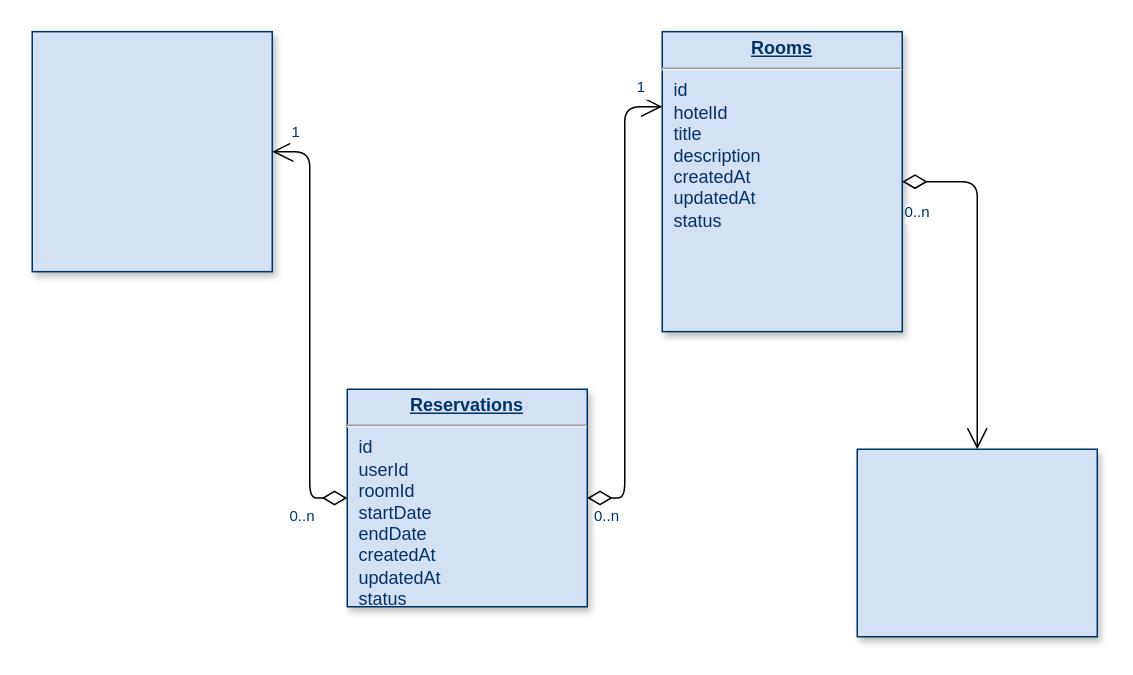
This 1133x675 diagram has some shape labels left out. The centre of each missing label's shape, as x and y in pixels:
Hotels id name description createdAt updatedAt status: point (978, 544)
Users id fullname email phone createdAt updatedAt status: point (153, 153)
